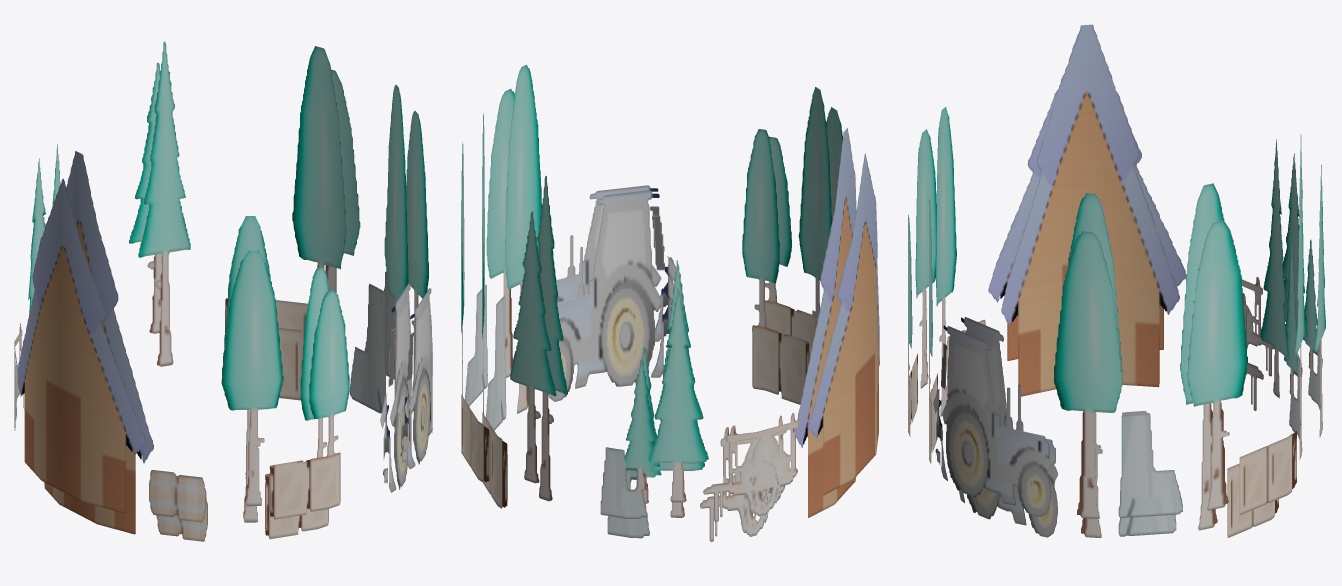
Rendered from haikei2.fbx.
3 renders of one model, left to right at view 1: azimuth 30°, elevation 25°; view 2: azimuth 150°, elevation 25°; view 3: azimuth 270°, elevation 25°, orthographic.
Visible parts, largest first — view 1: polySurface1; view 2: polySurface1; view 3: polySurface1.
Boxes of the visible parts, x1,y1,x2,y2 form: polySurface1: (14, 41, 432, 541); polySurface1: (461, 64, 879, 541); polySurface1: (908, 24, 1325, 537).
Bounding box in the file's own units: 200 × 200 × 200.
1 material, 1 textured.
